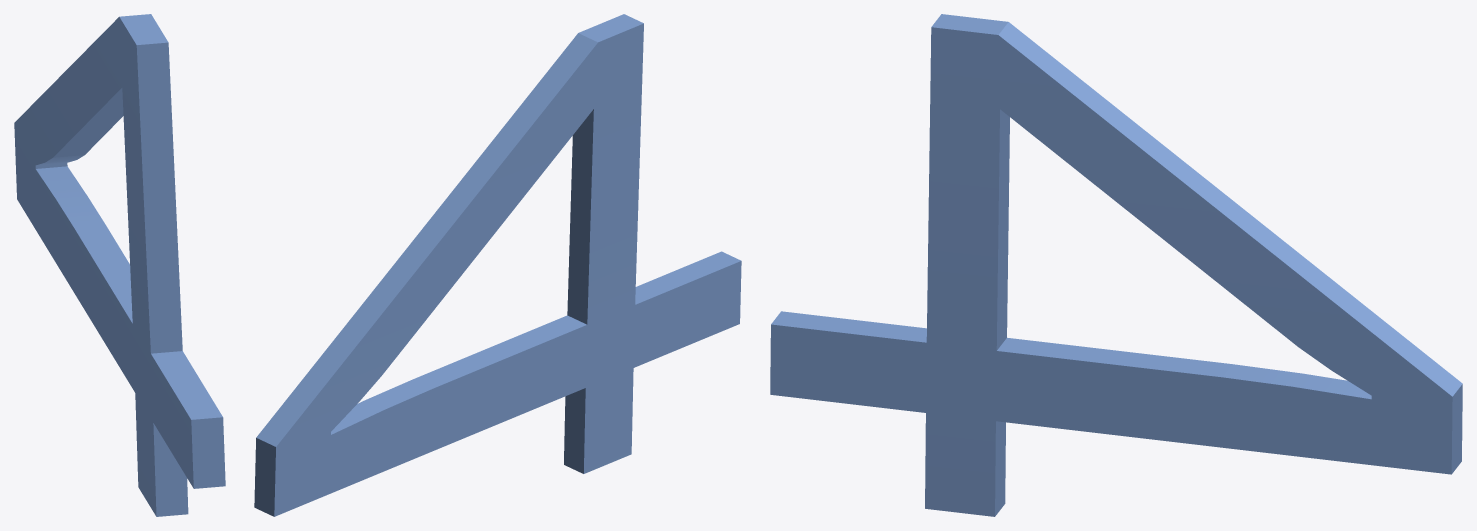
The model's file is New_Number_4.gltf.
3 renders of one model, left to right at view 1: azimuth 30°, elevation 25°; view 2: azimuth 150°, elevation 25°; view 3: azimuth 270°, elevation 25°, orthographic. The views are drawn at different scales.
Parts seen in each view (by area): view 1: Part 670; view 2: Part 670; view 3: Part 670.
Part boxes in pixels (left/top/right/bottom): Part 670: left=14, top=14, right=225, bottom=516; Part 670: left=254, top=14, right=741, bottom=516; Part 670: left=770, top=14, right=1462, bottom=516.
Size of the model in its own units: 0.00174 by 0.00408 by 0.00541.
